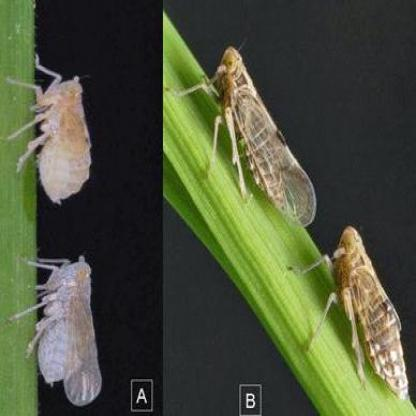brown-planthopper: (212, 46, 318, 228), (330, 226, 410, 402), (36, 256, 102, 404), (34, 66, 93, 206)
